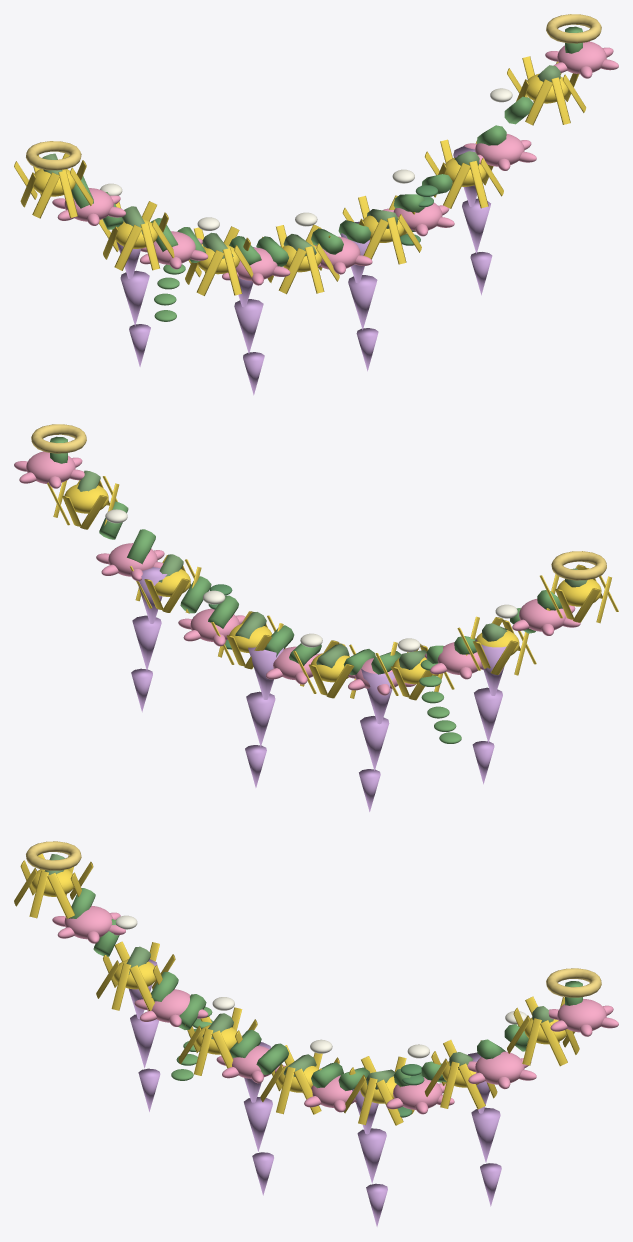
The model's file is flora_hanging_garland.glb.
3 views of the same model, one above another, from view 1: azimuth 30°, elevation 25°; view 2: azimuth 150°, elevation 25°; view 3: azimuth 330°, elevation 25° (orthographic).
Visible parts, largest first — view 1: Torus, Torus.001, Sphere.049, Sphere.041, Cone.004, Cone.001, Cone.007, Cone.010, Sphere.001, Sphere.009, Sphere.033, Sphere.017 (+10 smaller); view 2: Torus.001, Torus, Sphere.049, Sphere.001, Cone.010, Cone.007, Sphere.041, Cone.001, Cone.004, Cone.003, Cone.006, Sphere.033 (+15 smaller); view 3: Torus.001, Torus, Sphere.049, Sphere.041, Sphere.001, Sphere.033, Cone.007, Cone.010, Cone.004, Sphere.009, Cone.001, Sphere.025 (+11 smaller).
Boxes of the visible parts, x1,y1,x2,y2 form: Torus: [26, 141, 81, 170]; Torus.001: [546, 14, 601, 43]; Sphere.049: [557, 41, 606, 74]; Sphere.041: [475, 134, 524, 166]; Cone.004: [234, 299, 263, 353]; Cone.001: [120, 270, 149, 325]; Cone.007: [348, 275, 377, 329]; Cone.010: [462, 198, 490, 253]; Sphere.001: [64, 188, 113, 221]; Sphere.009: [147, 231, 195, 264]; Sphere.033: [393, 202, 442, 231]; Sphere.017: [235, 247, 277, 280]; Torus.001: [31, 424, 86, 453]; Torus: [551, 551, 606, 580]; Sphere.049: [26, 451, 75, 483]; Sphere.001: [519, 599, 566, 631]; Cone.010: [132, 615, 161, 670]; Cone.007: [246, 691, 275, 746]; Sphere.041: [108, 543, 157, 576]; Cone.001: [474, 687, 502, 742]; Cone.004: [360, 716, 389, 770]; Cone.003: [361, 668, 394, 724]; Cone.006: [248, 647, 283, 699]; Sphere.033: [190, 608, 239, 641]; Torus.001: [546, 968, 601, 997]; Torus: [26, 841, 81, 870]; Sphere.049: [557, 999, 606, 1032]; Sphere.041: [475, 1051, 524, 1084]; Sphere.001: [64, 905, 113, 939]; Sphere.033: [393, 1077, 442, 1109]; Cone.007: [357, 1128, 386, 1183]; Cone.010: [471, 1107, 500, 1162]; Cone.004: [244, 1097, 272, 1151]; Sphere.009: [146, 989, 190, 1022]; Cone.001: [130, 1014, 158, 1068]; Sphere.025: [311, 1075, 355, 1107].
Bounding box in the file's own units: 3.64 × 1.78 × 0.4442.
